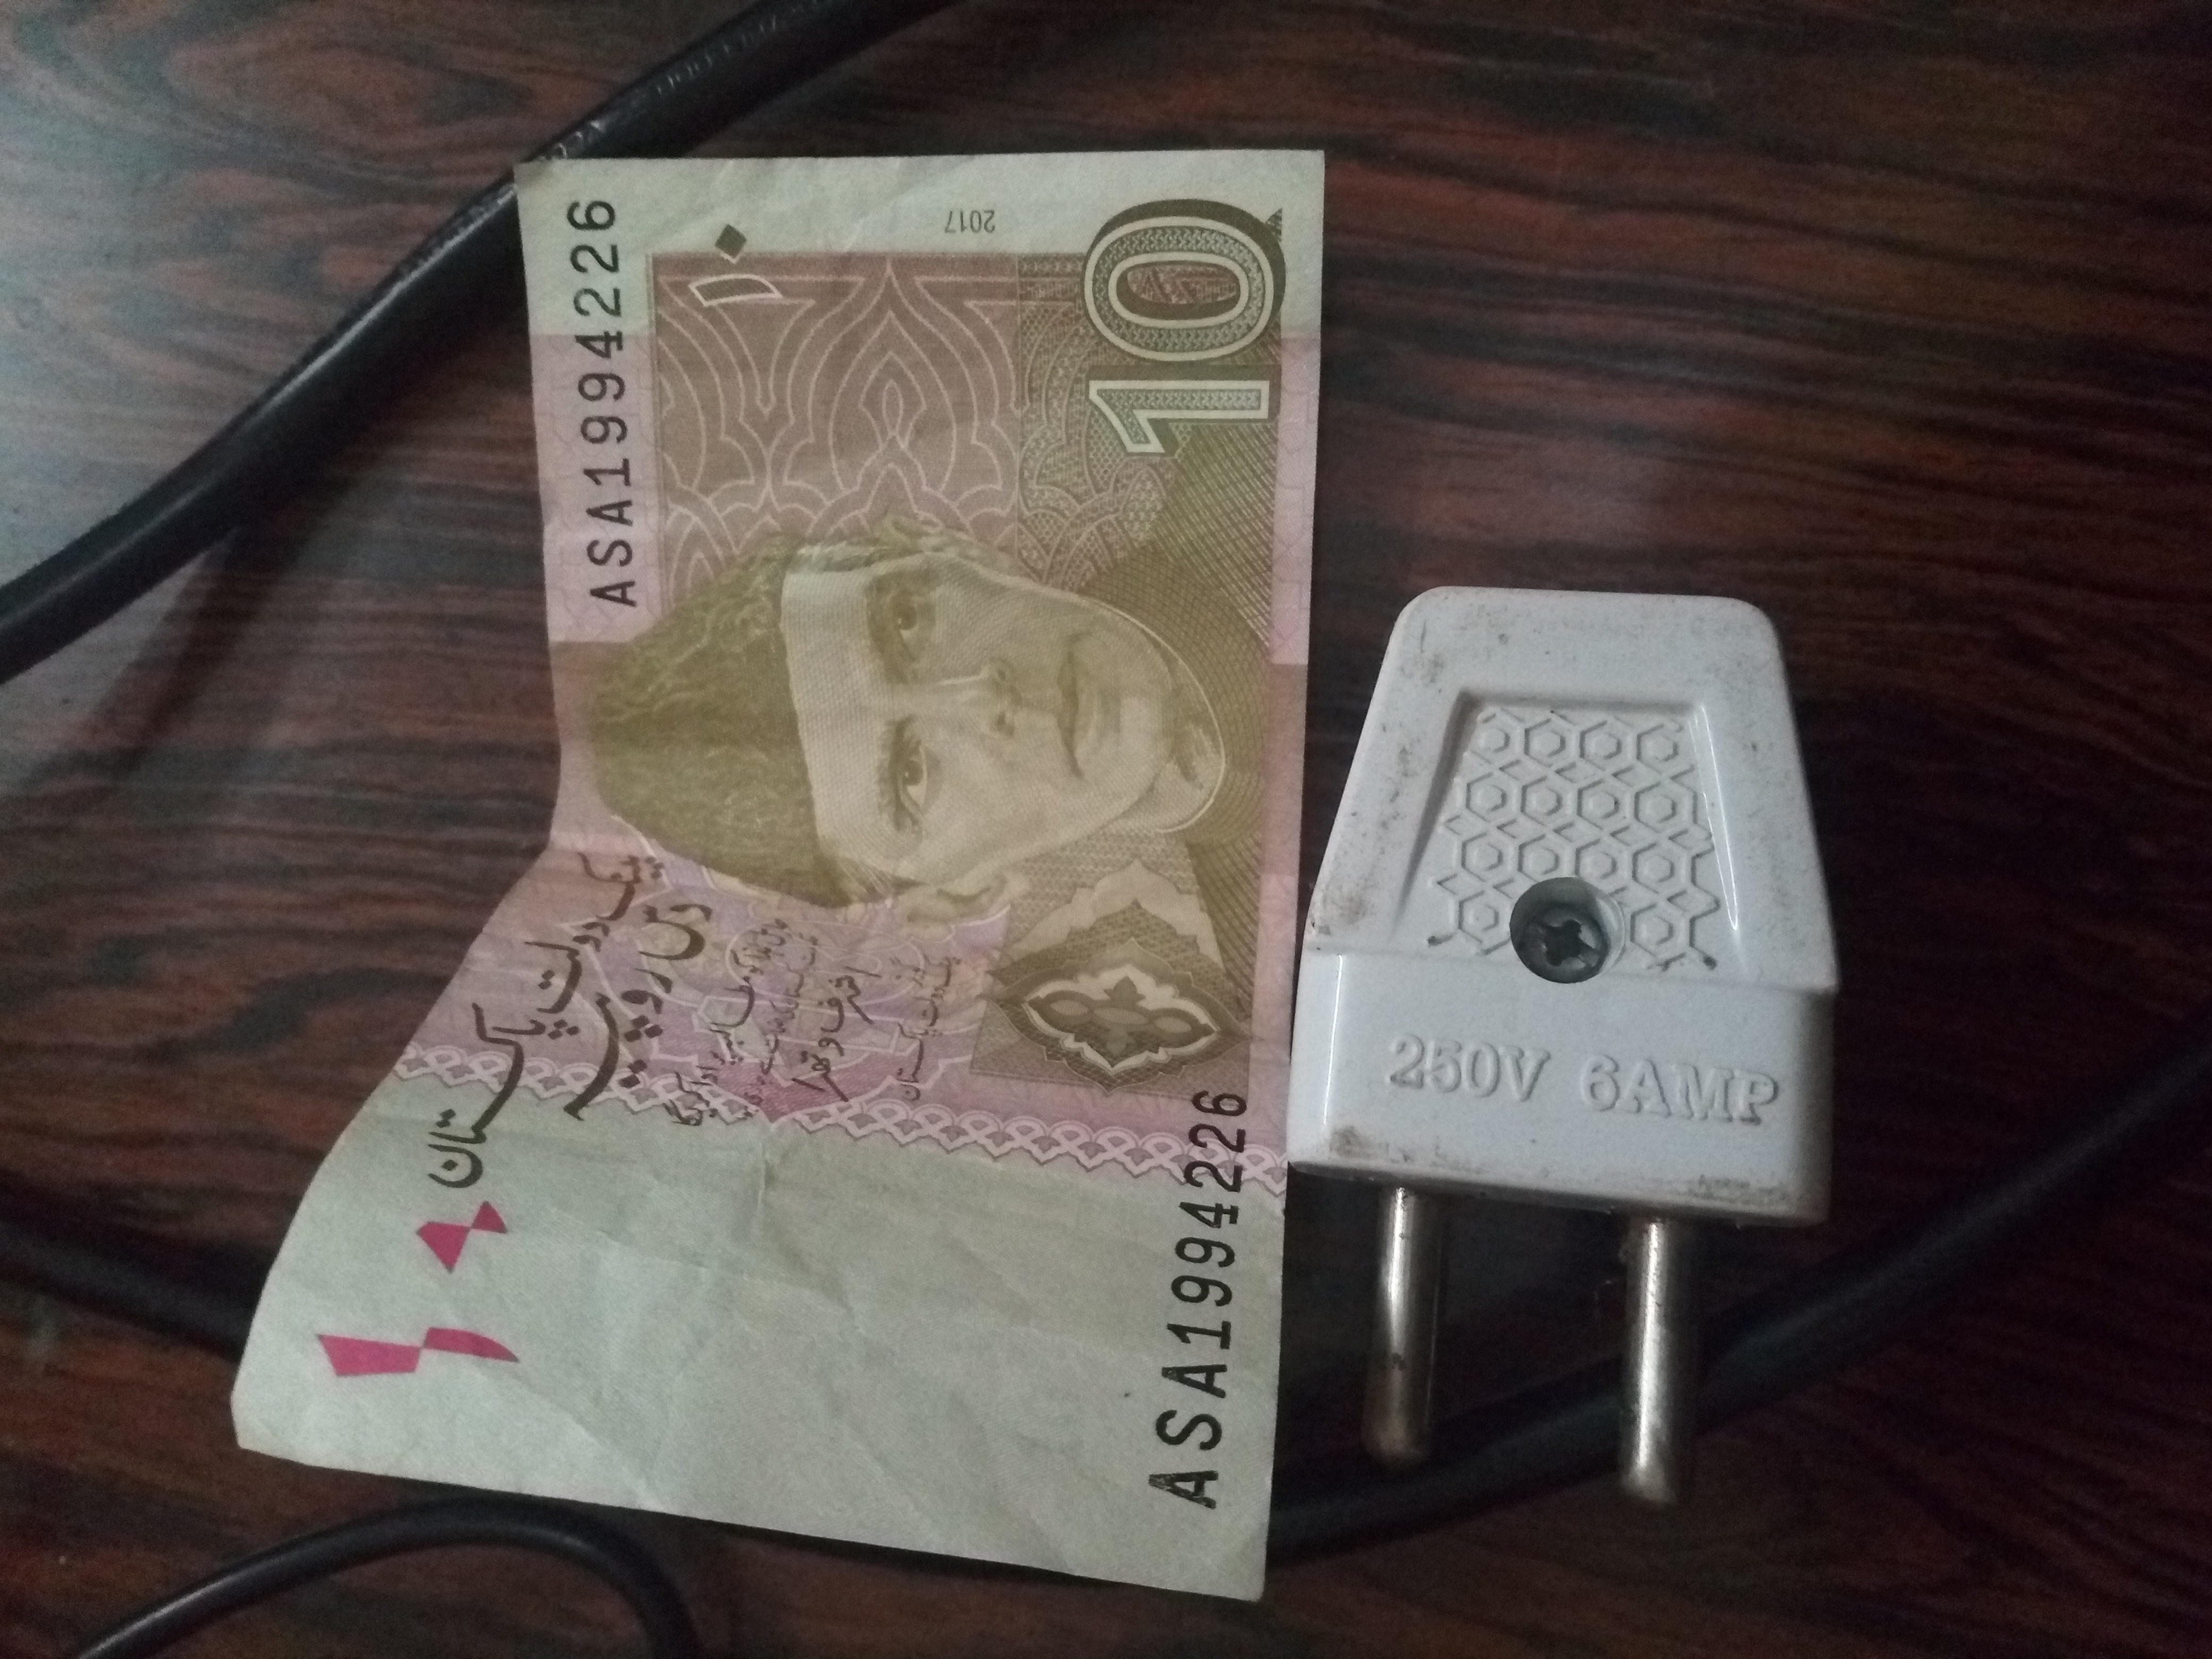10 rupee: (263, 117, 1305, 1621)
